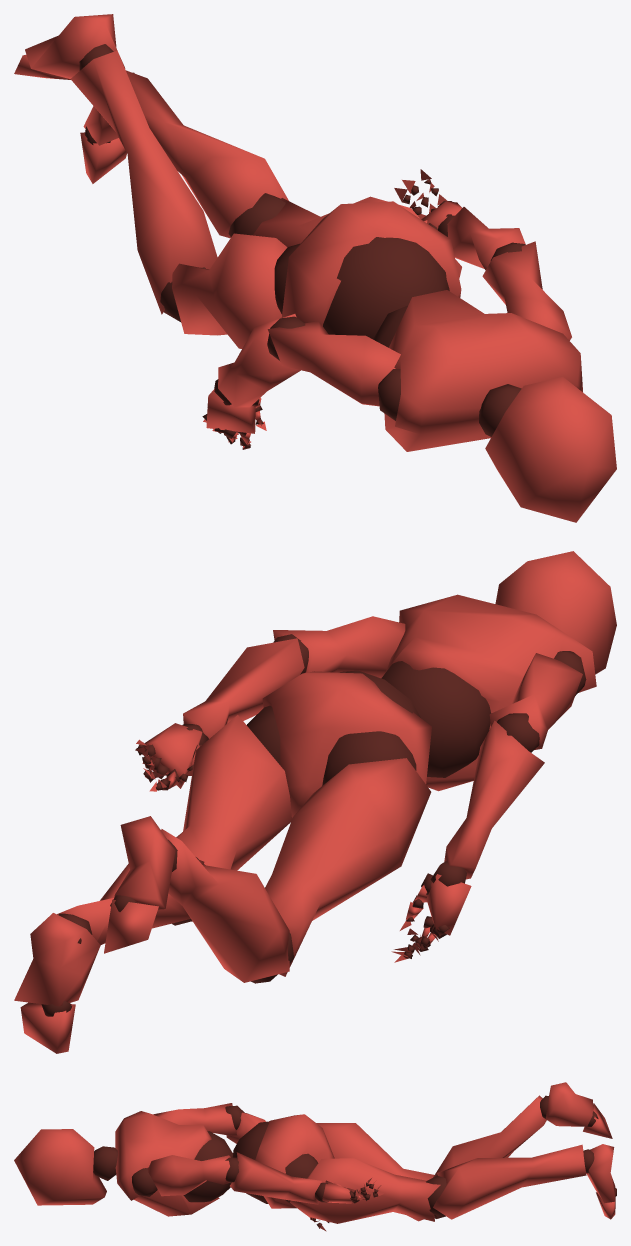
3 renders of one model, top to bottom at view 1: azimuth 30°, elevation 25°; view 2: azimuth 150°, elevation 25°; view 3: azimuth 270°, elevation 25°, orthographic. The views are drawn at different scales.
Visible parts, largest first — view 1: Beta_Surface, Beta_Joints; view 2: Beta_Surface, Beta_Joints; view 3: Beta_Surface, Beta_Joints.
Boxes of the visible parts, x1,y1,x2,y2 form: Beta_Surface: (14, 14, 616, 522); Beta_Joints: (79, 44, 525, 449); Beta_Surface: (14, 551, 616, 1053); Beta_Joints: (41, 634, 586, 1016); Beta_Surface: (14, 1082, 615, 1231); Beta_Joints: (93, 1095, 616, 1228).
Size of the model in its own units: 0.5873 by 0.5246 by 1.8.
